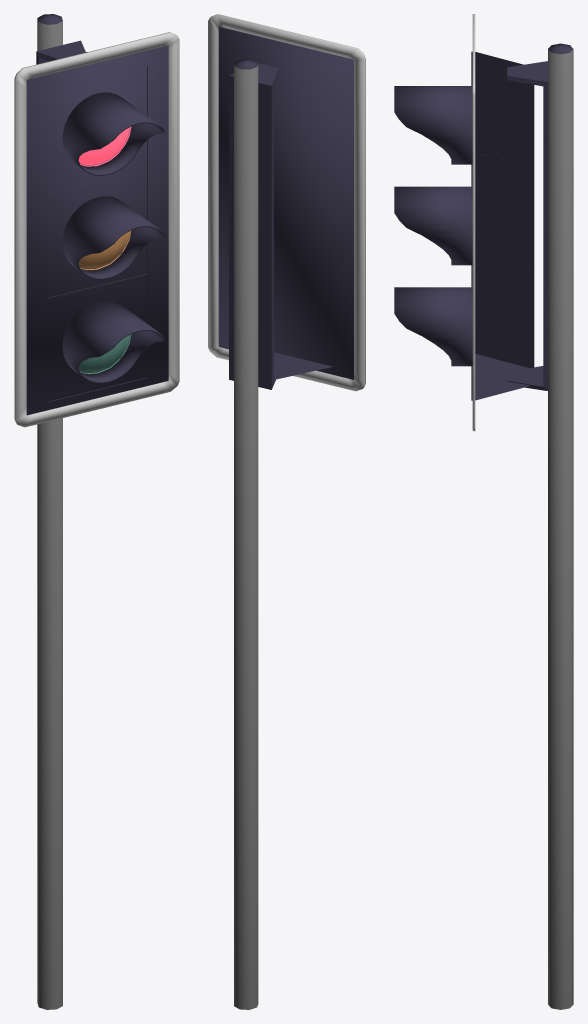
The picture shows the model from 3 angles, left to right: view 1: azimuth 30°, elevation 25°; view 2: azimuth 150°, elevation 25°; view 3: azimuth 270°, elevation 25°; orthographic projection. The views are drawn at different scales.
Parts seen in each view (by area): view 1: trafficlight; view 2: trafficlight; view 3: trafficlight.
Boxes of the visible parts, x1=… form: trafficlight: x1=14, y1=14, x2=179, y2=1009; trafficlight: x1=208, y1=14, x2=365, y2=1009; trafficlight: x1=394, y1=14, x2=573, y2=1009.
Size of the model in its own units: 94.29 by 544 by 92.1.
